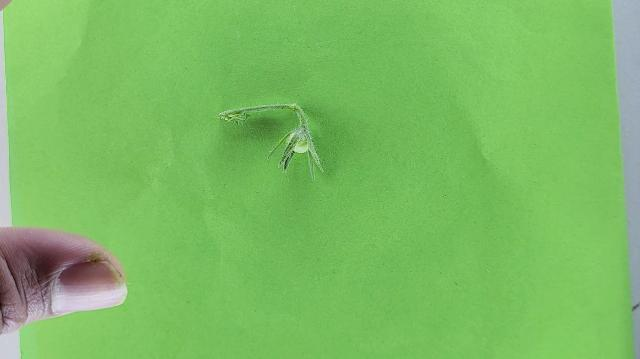Fruit Bud: (271, 122, 324, 180)
